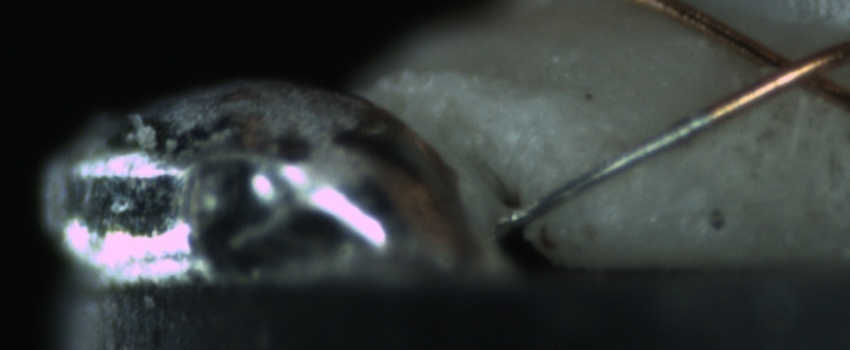CL: (742, 37, 844, 102)
TS: (520, 110, 715, 225)
